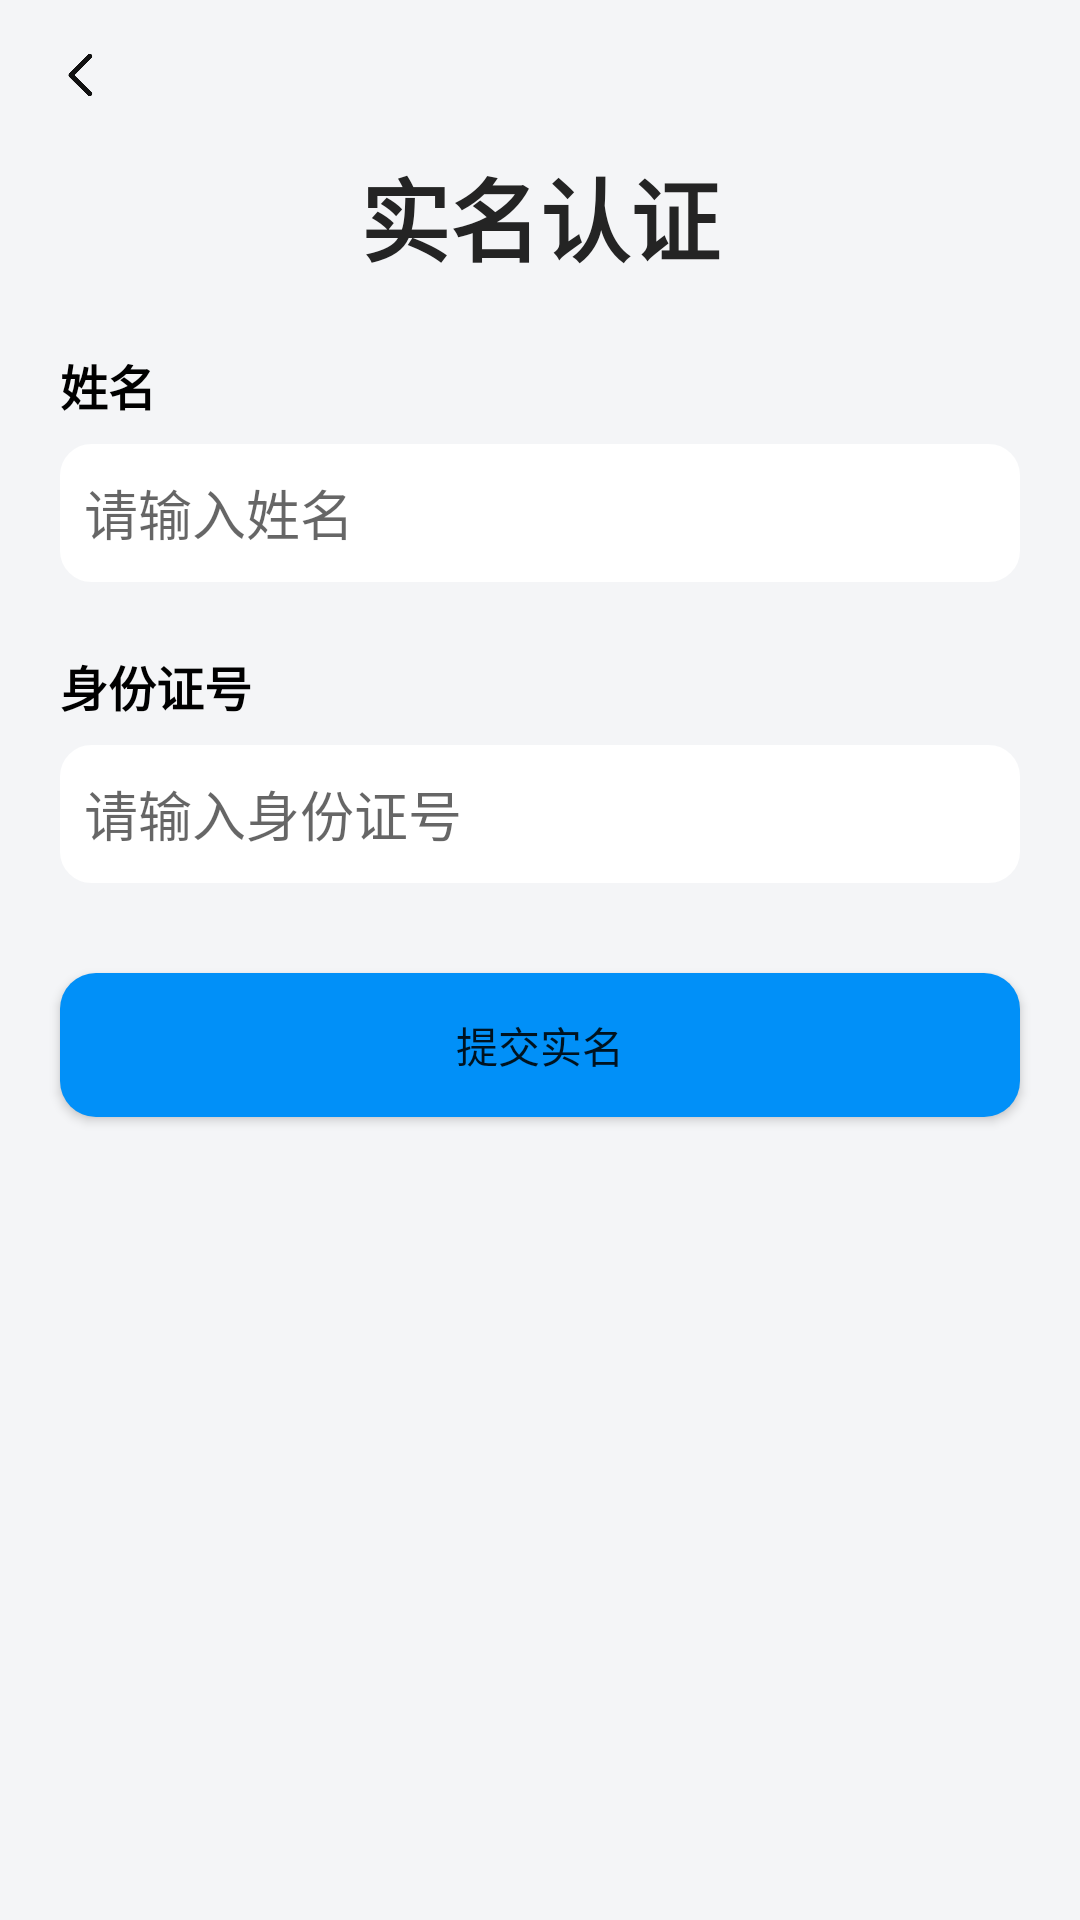

Icons on this 1080x1920 Android screen, each with the point to tap as [x,y]:
back: [80,75]
